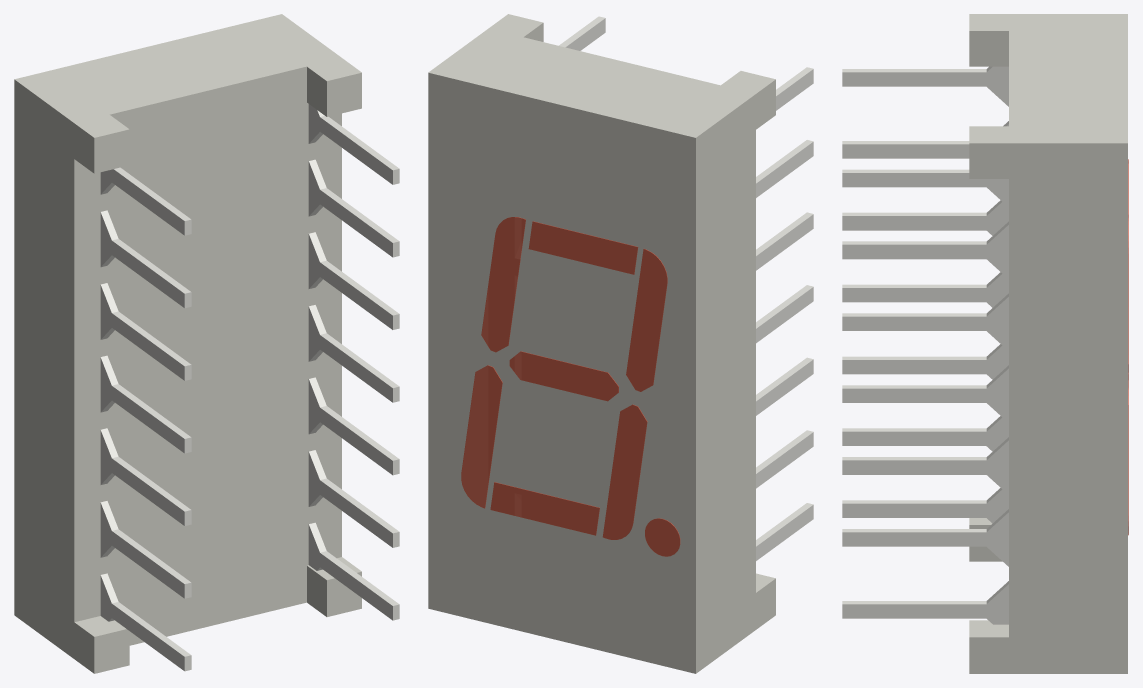
The model's file is MAN71A.glb.
3 renders of one model, left to right at view 1: azimuth 30°, elevation 25°; view 2: azimuth 150°, elevation 25°; view 3: azimuth 270°, elevation 25°, orthographic.
Parts seen in each view (by area): view 1: Shape_IndexedFaceSet.010, Shape_IndexedFaceSet.006, Shape_IndexedFaceSet, Shape_IndexedFaceSet.012, Shape_IndexedFaceSet.065, Shape_IndexedFaceSet.003, Shape_IndexedFaceSet.069, Shape_IndexedFaceSet.014, Shape_IndexedFaceSet.005, Shape_IndexedFaceSet.001, Shape_IndexedFaceSet.194, Shape_IndexedFaceSet.213 (+16 smaller); view 2: Shape_IndexedFaceSet.007, Shape_IndexedFaceSet.006, Shape_IndexedFaceSet, Shape_IndexedFaceSet.131, Shape_IndexedFaceSet.129, Shape_IndexedFaceSet.133, Shape_IndexedFaceSet.135, Shape_IndexedFaceSet.130, Shape_IndexedFaceSet.128, Shape_IndexedFaceSet.132, Shape_IndexedFaceSet.134, Shape_IndexedFaceSet.203 (+6 smaller); view 3: Shape_IndexedFaceSet.008, Shape_IndexedFaceSet, Shape_IndexedFaceSet.244, Shape_IndexedFaceSet.235, Shape_IndexedFaceSet.196, Shape_IndexedFaceSet.211, Shape_IndexedFaceSet.239, Shape_IndexedFaceSet.199, Shape_IndexedFaceSet.201, Shape_IndexedFaceSet.207, Shape_IndexedFaceSet.231, Shape_IndexedFaceSet.191 (+21 smaller).
Boxes of the visible parts, x1,y1,x2,y2 form: Shape_IndexedFaceSet.010: [109, 102, 306, 608]; Shape_IndexedFaceSet.006: [14, 79, 94, 673]; Shape_IndexedFaceSet: [15, 14, 361, 137]; Shape_IndexedFaceSet.012: [74, 159, 109, 622]; Shape_IndexedFaceSet.065: [307, 103, 341, 565]; Shape_IndexedFaceSet.003: [110, 66, 306, 145]; Shape_IndexedFaceSet.069: [129, 565, 306, 645]; Shape_IndexedFaceSet.014: [94, 629, 129, 673]; Shape_IndexedFaceSet.005: [94, 129, 129, 173]; Shape_IndexedFaceSet.001: [327, 72, 361, 116]; Shape_IndexedFaceSet.194: [112, 604, 184, 670]; Shape_IndexedFaceSet.213: [112, 241, 184, 307]; Shape_IndexedFaceSet.007: [428, 72, 695, 673]; Shape_IndexedFaceSet.006: [696, 79, 775, 673]; Shape_IndexedFaceSet: [428, 14, 775, 137]; Shape_IndexedFaceSet.131: [626, 249, 667, 391]; Shape_IndexedFaceSet.129: [461, 365, 502, 508]; Shape_IndexedFaceSet.133: [481, 217, 525, 352]; Shape_IndexedFaceSet.135: [602, 404, 646, 539]; Shape_IndexedFaceSet.130: [528, 221, 637, 274]; Shape_IndexedFaceSet.128: [490, 482, 599, 535]; Shape_IndexedFaceSet.132: [509, 351, 618, 401]; Shape_IndexedFaceSet.134: [645, 518, 679, 556]; Shape_IndexedFaceSet.203: [756, 287, 813, 343]; Shape_IndexedFaceSet.008: [969, 143, 1127, 673]; Shape_IndexedFaceSet: [969, 14, 1127, 143]; Shape_IndexedFaceSet.244: [842, 244, 986, 259]; Shape_IndexedFaceSet.235: [842, 316, 986, 330]; Shape_IndexedFaceSet.196: [842, 503, 985, 517]; Shape_IndexedFaceSet.211: [842, 431, 986, 445]; Shape_IndexedFaceSet.239: [842, 388, 985, 402]; Shape_IndexedFaceSet.199: [842, 360, 985, 374]; Shape_IndexedFaceSet.201: [842, 288, 986, 302]; Shape_IndexedFaceSet.207: [842, 216, 986, 230]; Shape_IndexedFaceSet.231: [842, 460, 986, 474]; Shape_IndexedFaceSet.191: [842, 72, 986, 86].
Size of the model in its own units: 3.86 by 7.38 by 3.61.
